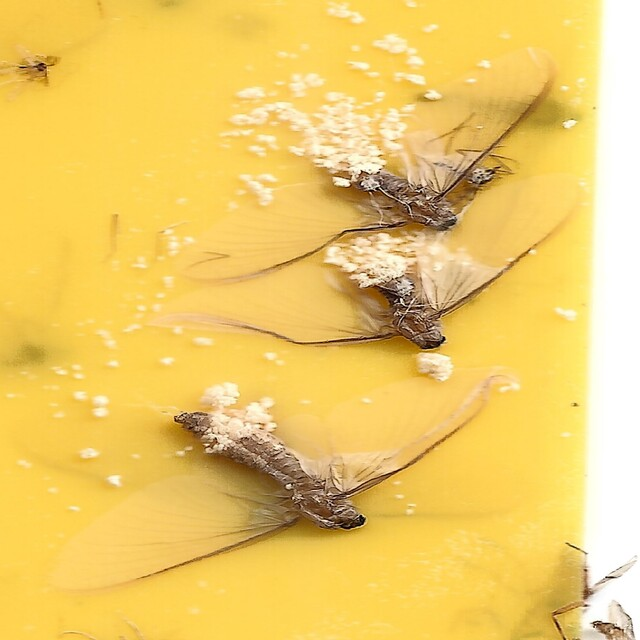Ephemeroptera: (65, 362, 505, 594), (180, 46, 560, 290), (153, 176, 575, 351)
